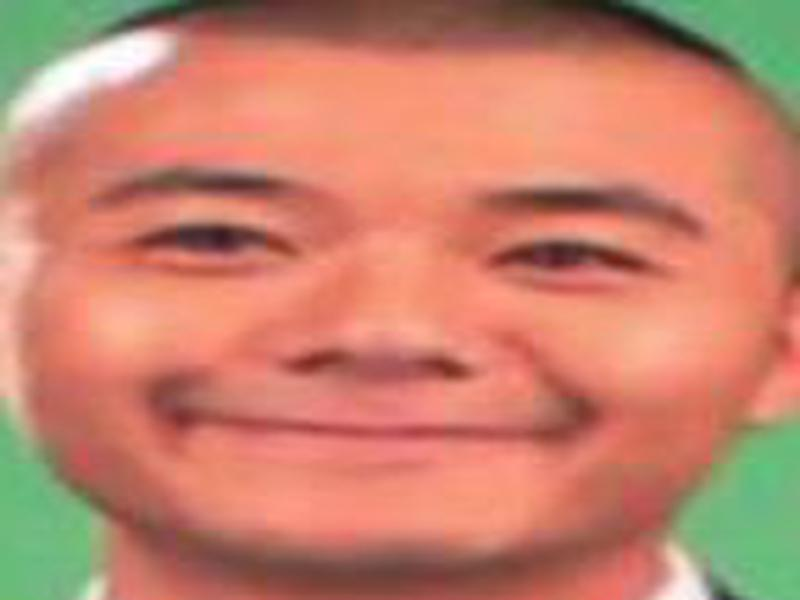without_mask: (8, 93, 789, 574)
